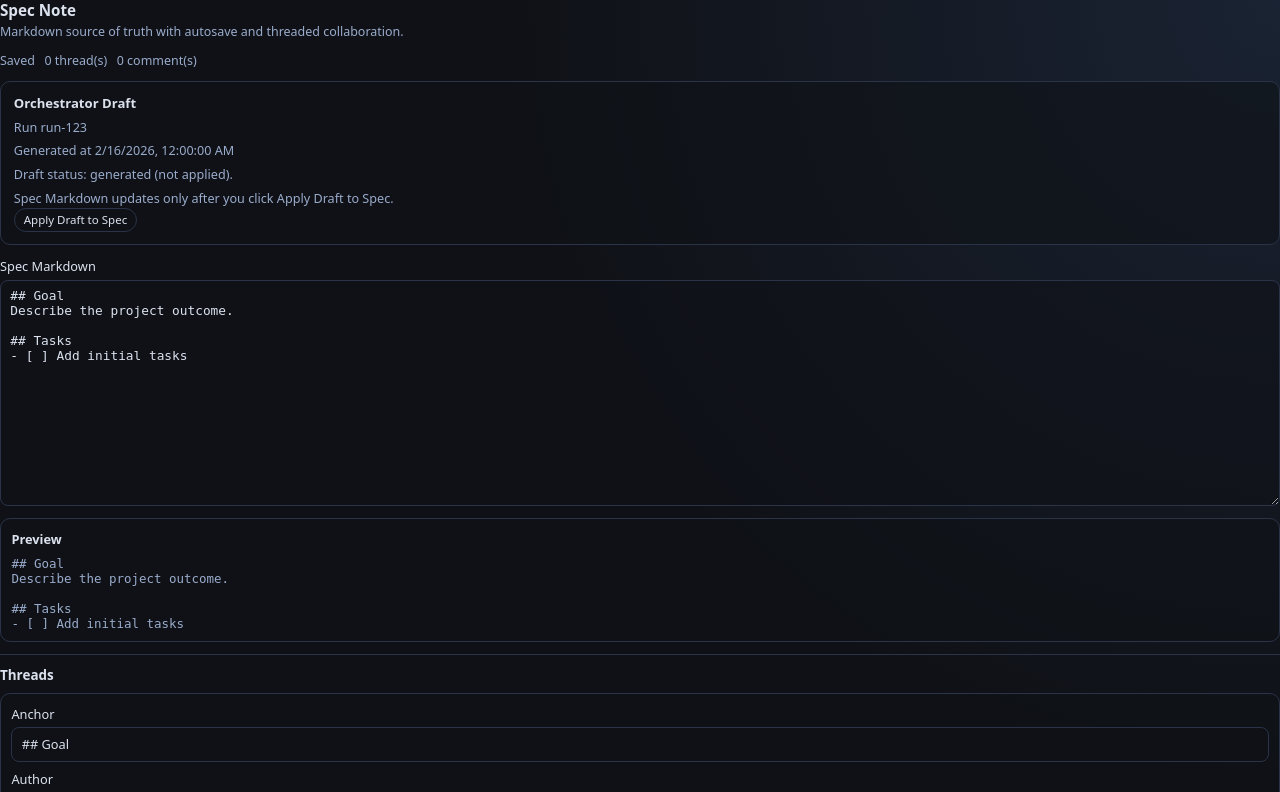
it: SpecNotePanel › applies orchestrator draft content through the existing spec save pathway
The image size is (1280, 792).
Expected: the text "Draft status: generated (not applied)." is shown, [14,165,233,183]
Expected: the text "Spec Markdown updates only after you click Apply Draft to Spec." is shown, [14,189,394,207]
Click the button "Apply Draft to Spec".
click(75, 220)  # box [14,208,137,232]
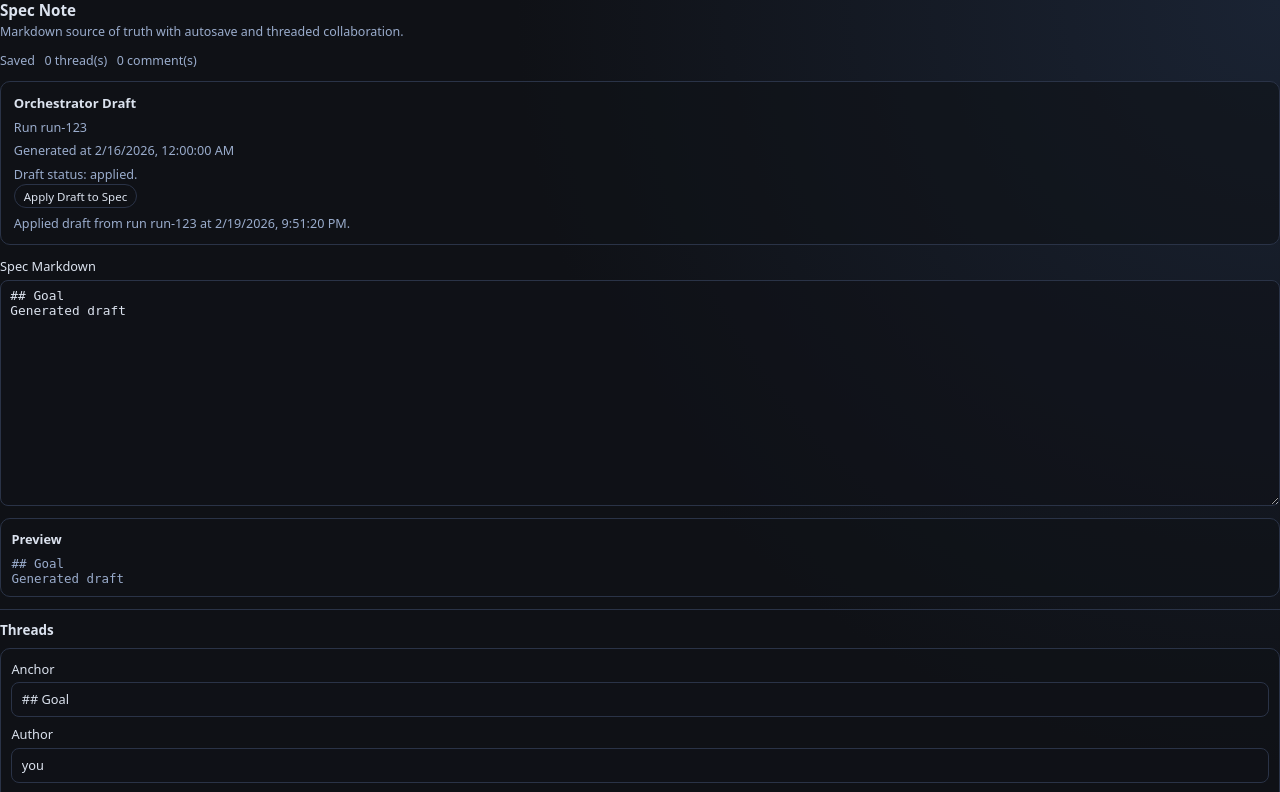
Result: the text "Applied draft from run run-123 at 2/19/2026, 9:51:20 PM." is shown at [14,214,350,232]
